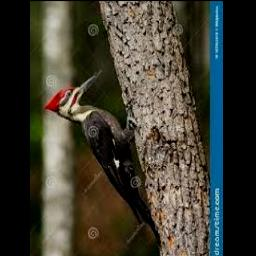Woodpecker: (46, 70, 161, 246)
